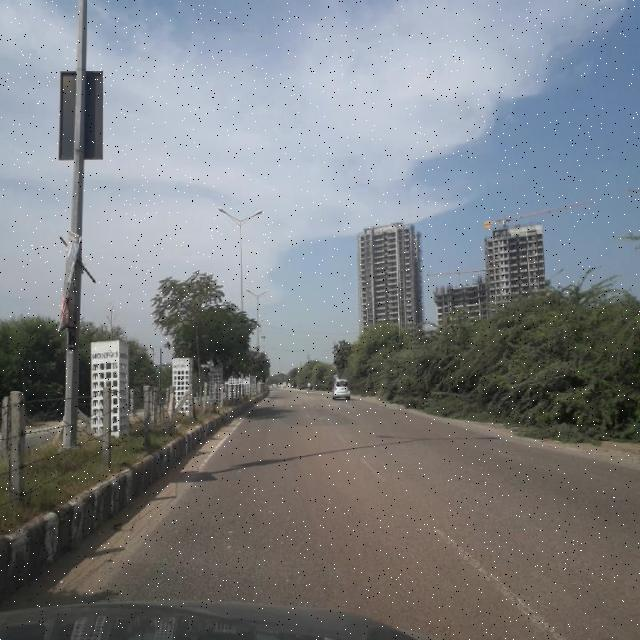D44: (436, 525, 564, 635), (361, 448, 391, 490)
